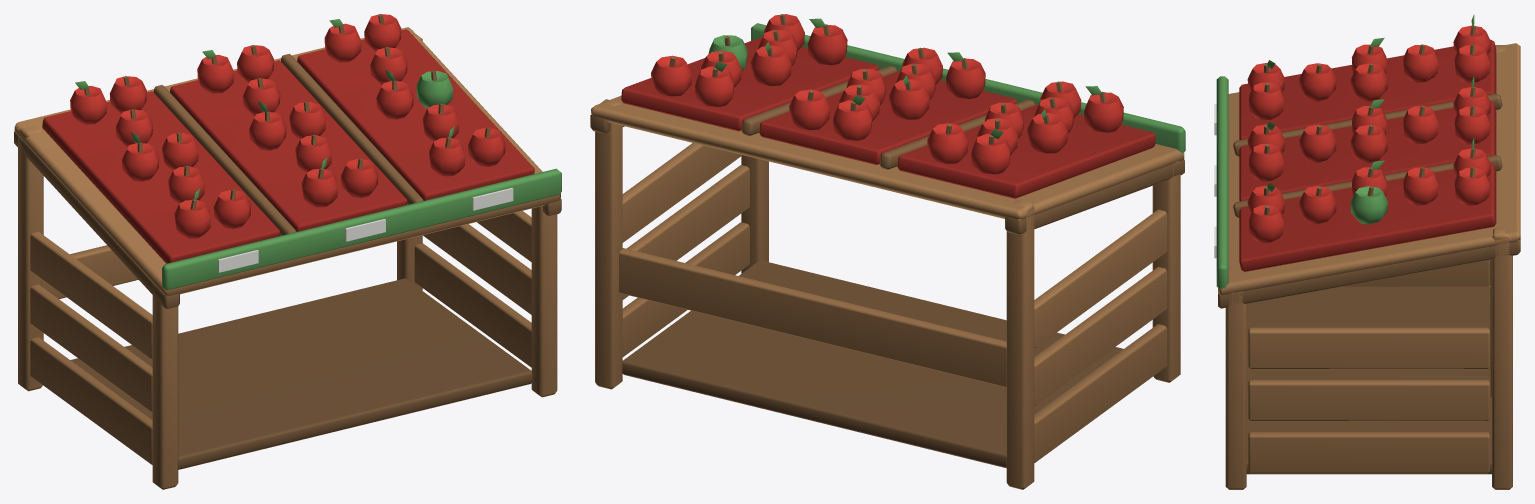
Rendered from ProduceTable_15_Apples.glb.
3 views of the same model, side by side, from view 1: azimuth 30°, elevation 25°; view 2: azimuth 150°, elevation 25°; view 3: azimuth 270°, elevation 25° (orthographic). The views are drawn at different scales.
Visible parts, largest first — view 1: SM_ProduceTable_15_Apples; view 2: SM_ProduceTable_15_Apples; view 3: SM_ProduceTable_15_Apples.
Part boxes in pixels (<box>): SM_ProduceTable_15_Apples: <box>14,14,561,489</box>; SM_ProduceTable_15_Apples: <box>590,14,1185,489</box>; SM_ProduceTable_15_Apples: <box>1214,15,1520,489</box>.
Bounding box in the file's own units: 1.5 × 1.11 × 1.01.
1 material, 1 textured.
